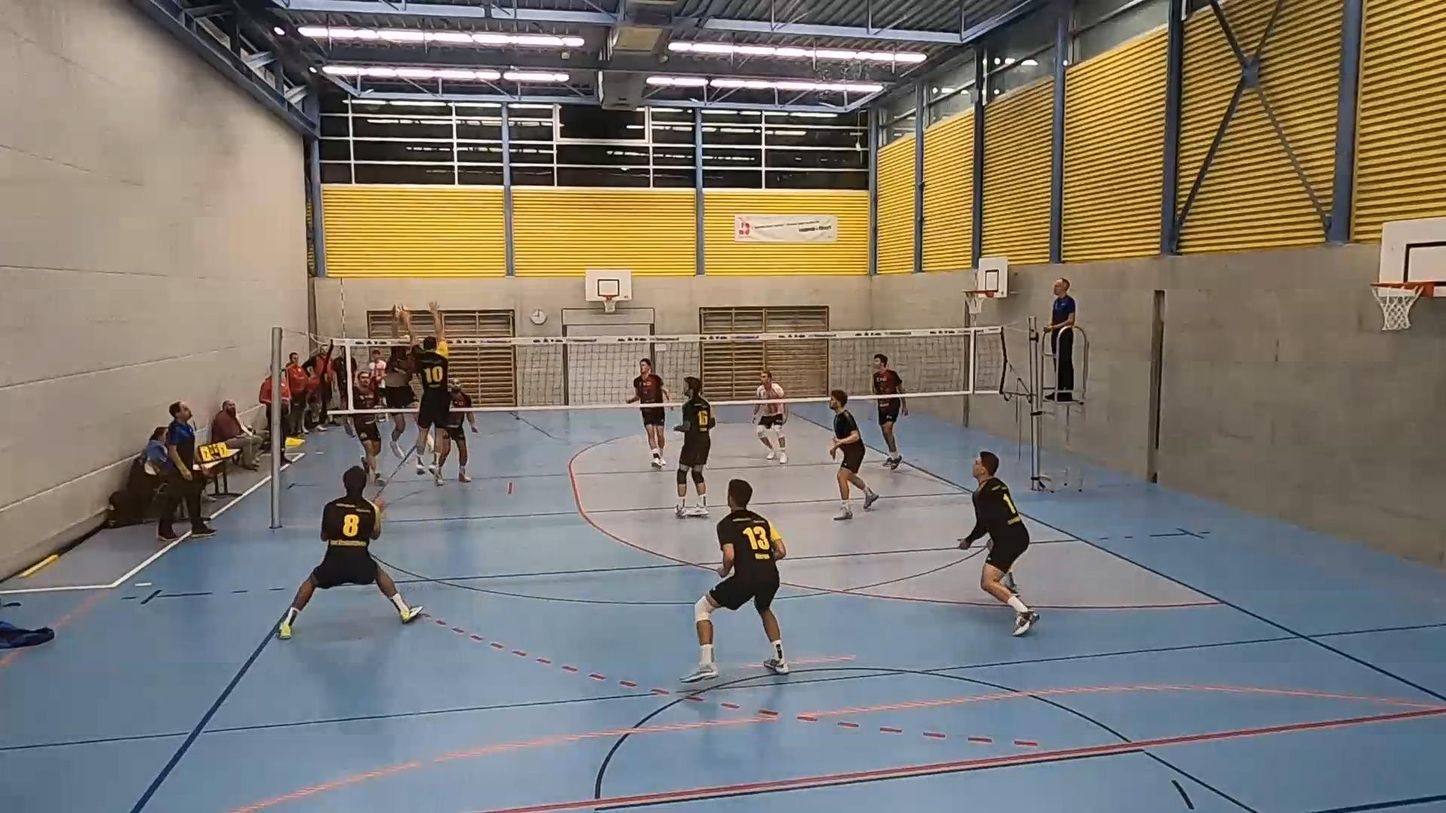Attack: (372, 290, 437, 461)
Block: (398, 302, 452, 482)
Player: (279, 467, 421, 638), (682, 479, 789, 682), (959, 451, 1038, 635), (828, 389, 878, 519), (675, 376, 715, 518), (435, 381, 477, 486), (627, 358, 667, 468), (753, 370, 787, 463), (345, 413, 383, 483), (877, 398, 908, 469)
ball: (388, 299, 409, 322)
